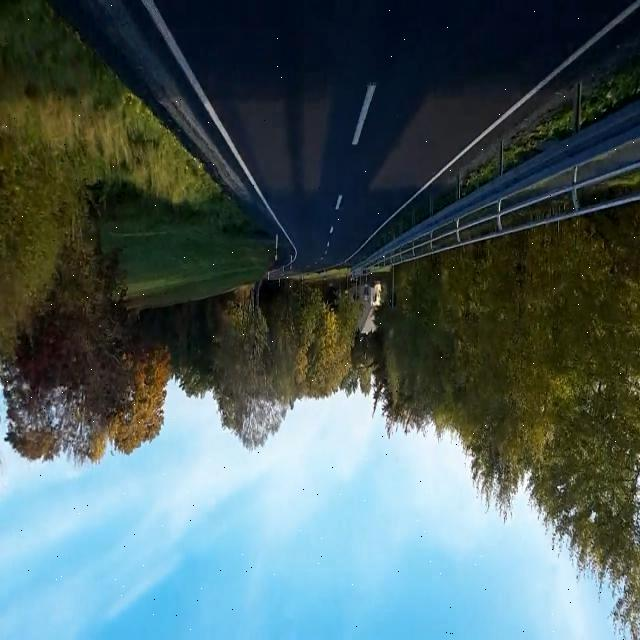lane: (344, 1, 640, 262), (141, 0, 298, 260), (353, 82, 376, 145), (336, 194, 342, 210)
road: (53, 1, 633, 272)
